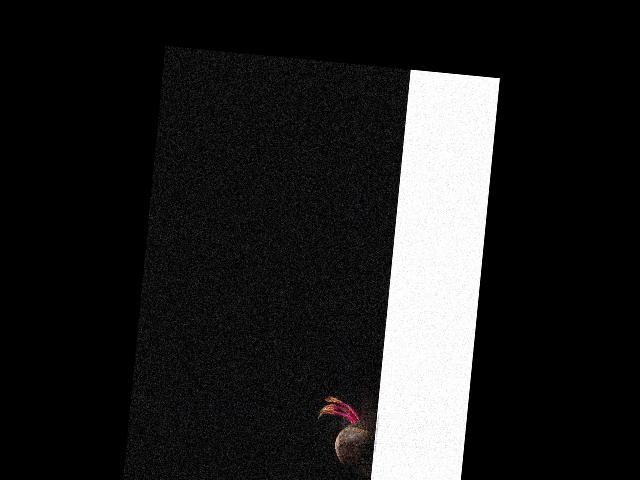beet: (312, 395, 378, 479)
